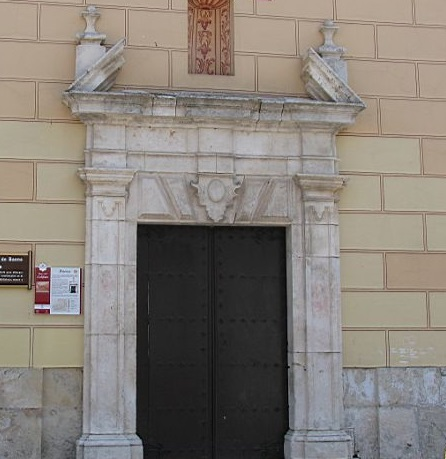fronton-partido: (59, 38, 367, 129)
vano-adintelado: (114, 192, 322, 459)
